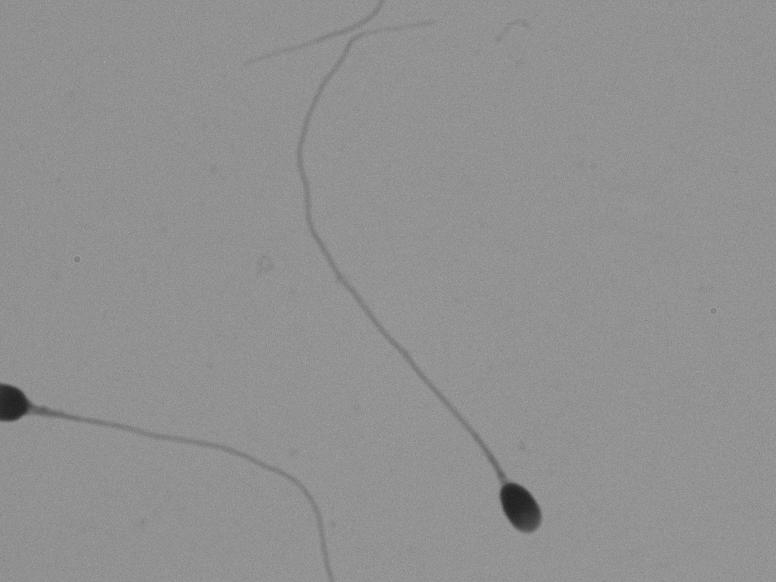Normal: (270, 17, 553, 541)
